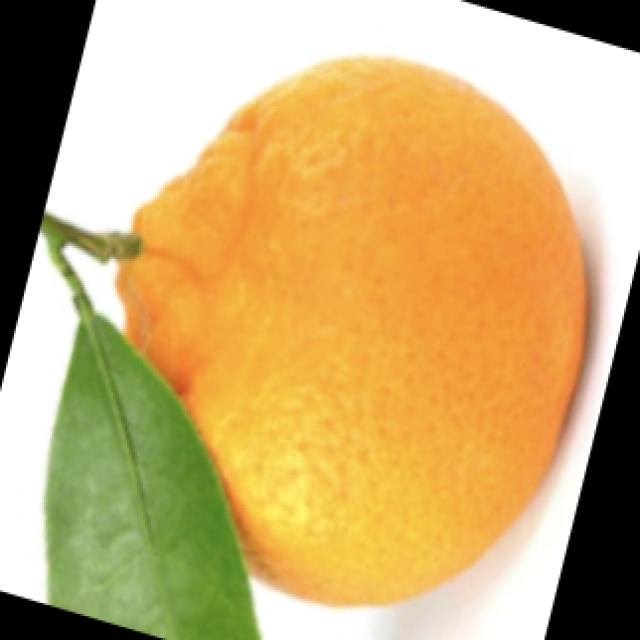fresh: (0, 47, 598, 633)
